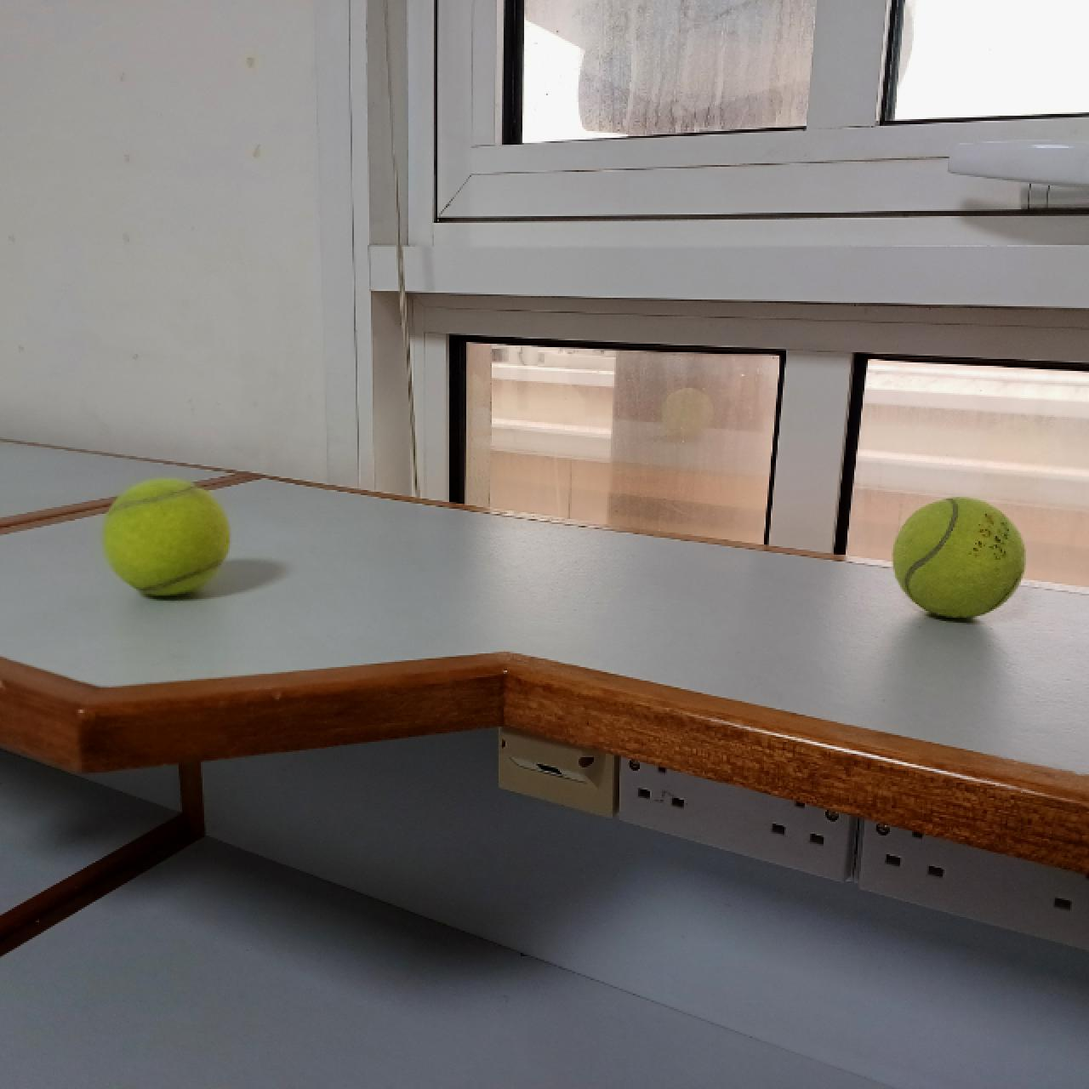tennis-ball: (892, 496, 1025, 623), (100, 477, 229, 602)
